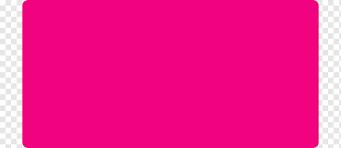pink_zone: (21, 0, 320, 148)
